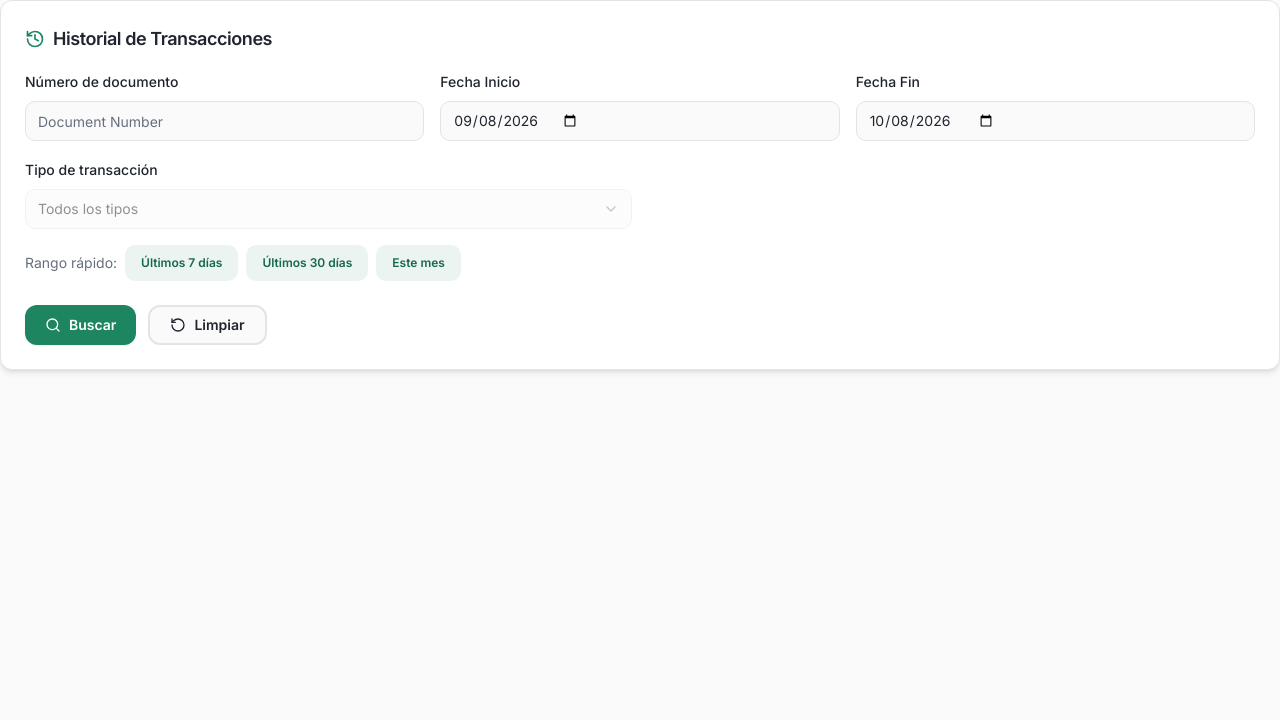
Scenario: TransactionHistory › shows error for 401 Unauthorized
Step 1. Type "3001234567" into the field with placeholder "Document Number" → (225, 121), box [25,101,424,141]
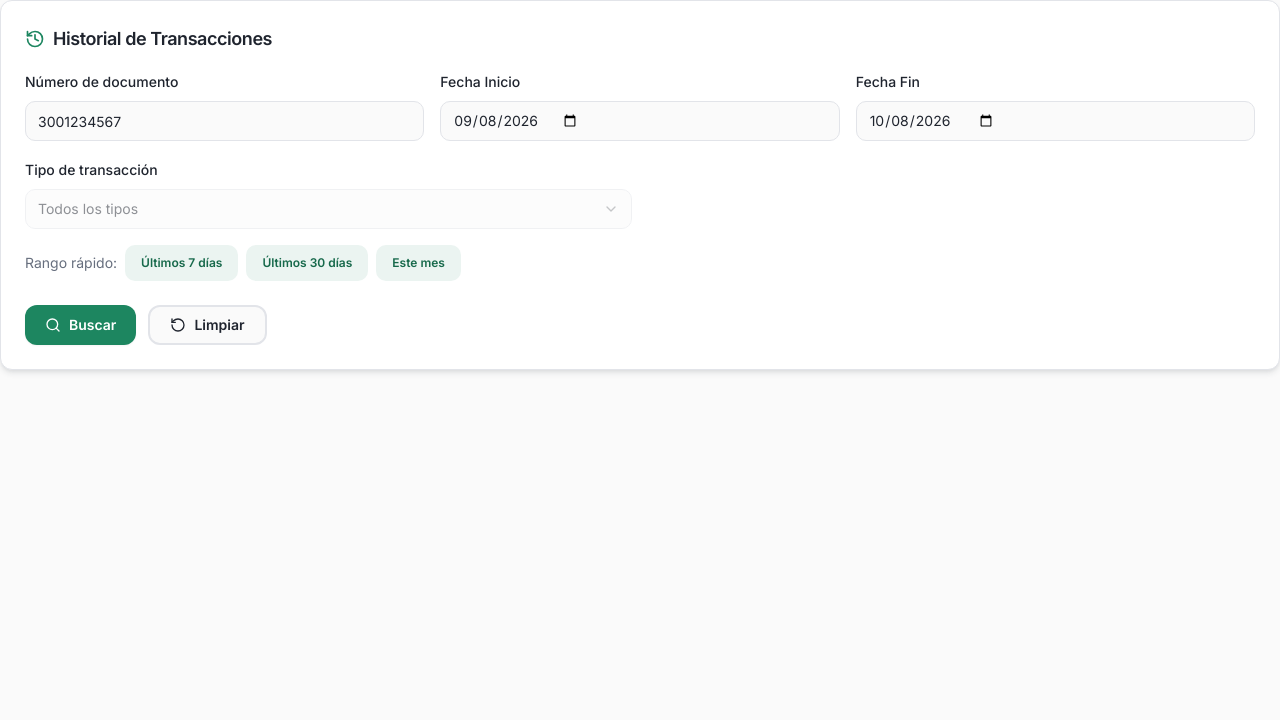
Step 2. Type "2023-10-01" into the date field with test id "th-startDate" → (640, 121), box [440,101,840,141]
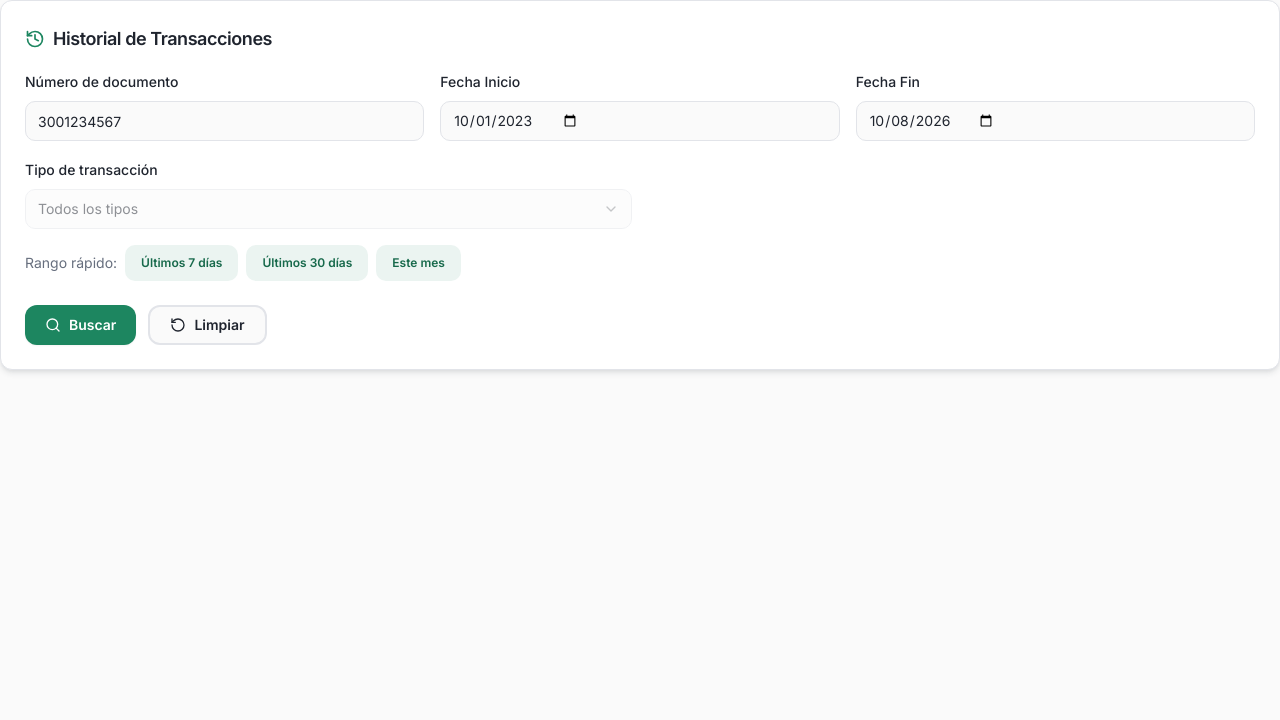
Step 3. Type "2023-10-10" into the date field with test id "th-endDate" → (1055, 121), box [856,101,1255,141]
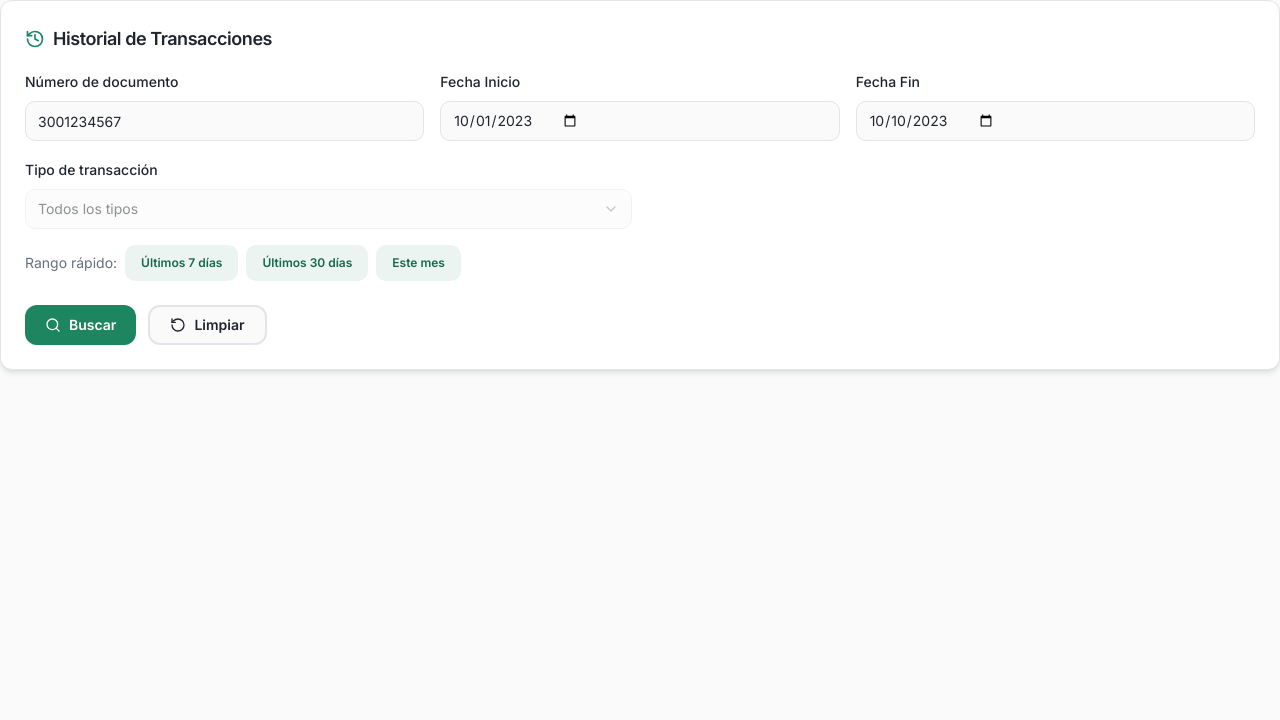
Step 4. Click the button "Buscar" → (81, 325), box [25,305,136,345]
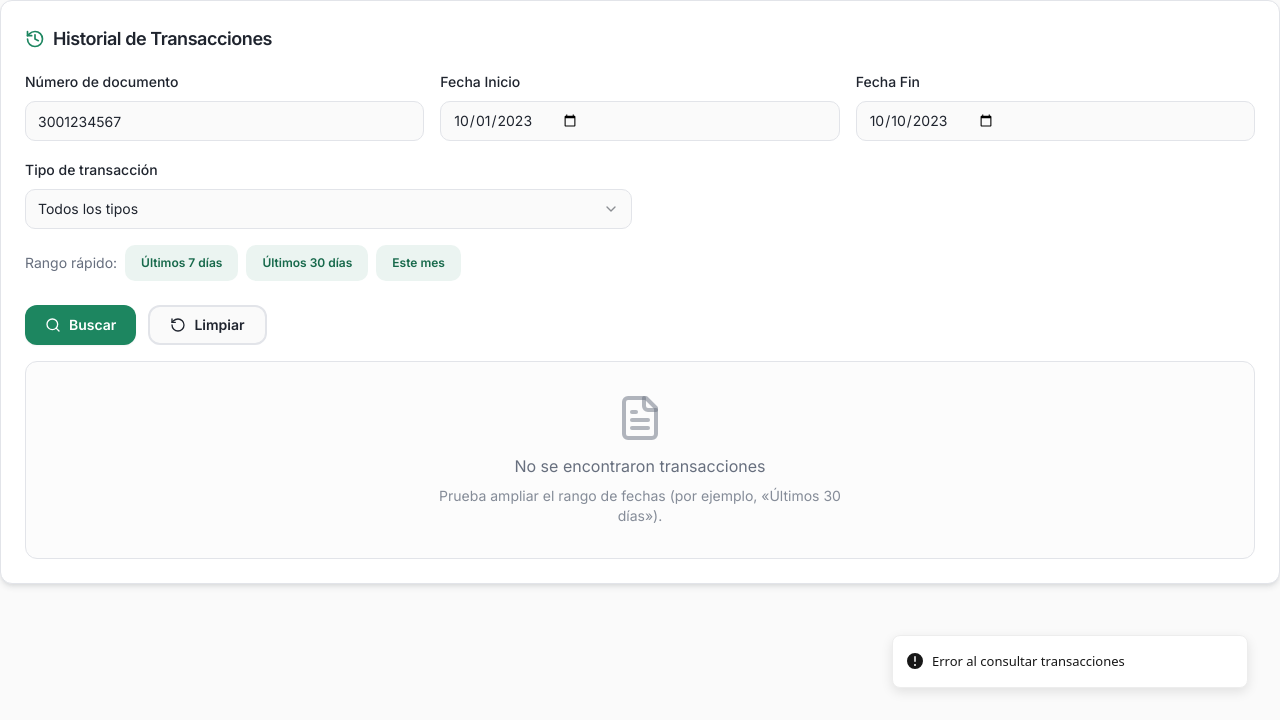
Check: the text "Error al consultar transacciones" is shown, box [932,652,1125,671]
